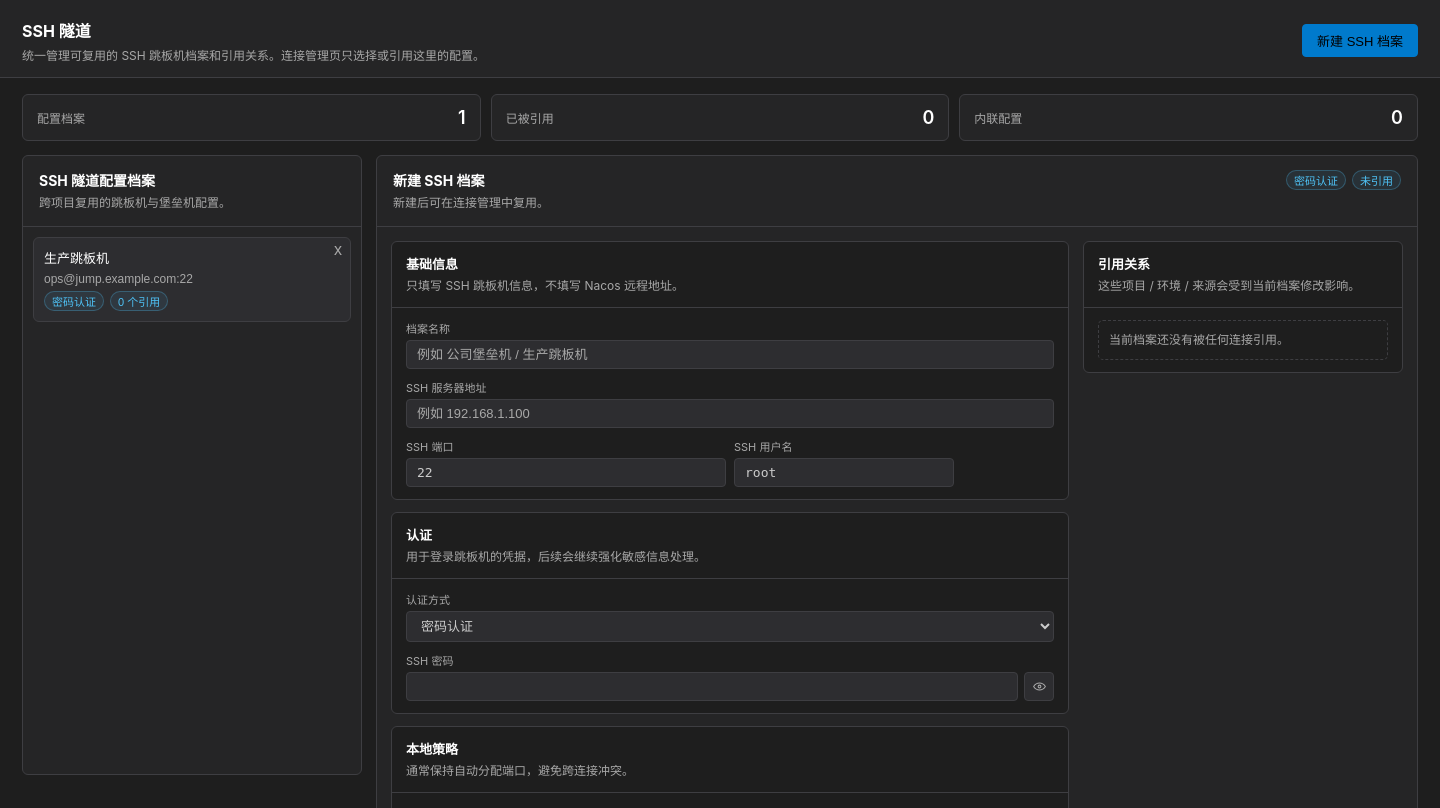
Test: SSHManagerView › 迁过凭据的档案回显与保存 › tells the user to re-enter when the vault entry is gone, and still lets the form be edited
Click the text "生产跳板机" at x=76, y=258, box [44,248,109,267]
(page scrolled)
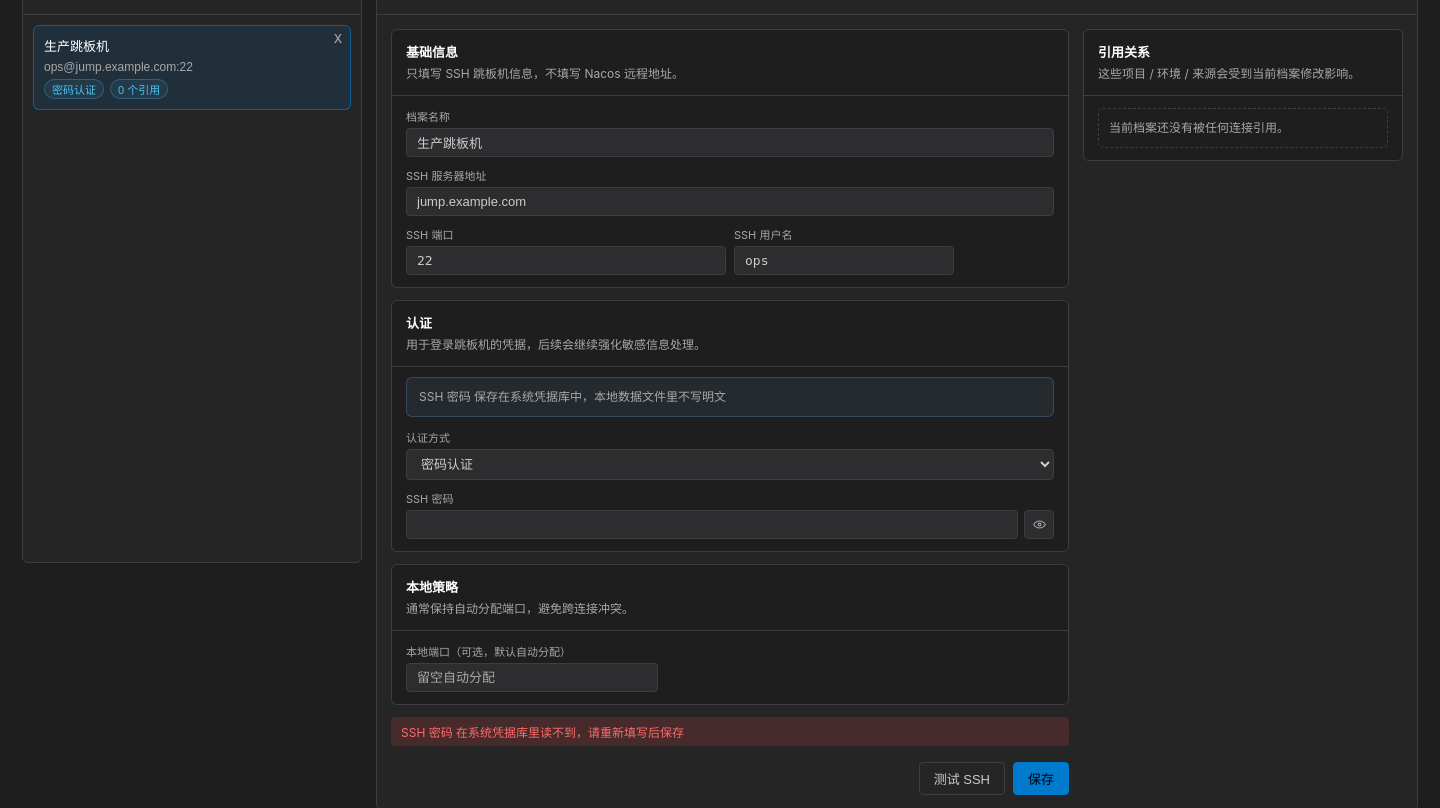
Check: the password field labelled "SSH 密码" is empty, box [406,510,1018,539]
Check: the message reads "SSH 密码 在系统凭据库里读不到，请重新填写后保存", box [401,725,684,740]
Check: the button "保存" is enabled, box [1013,762,1069,795]
